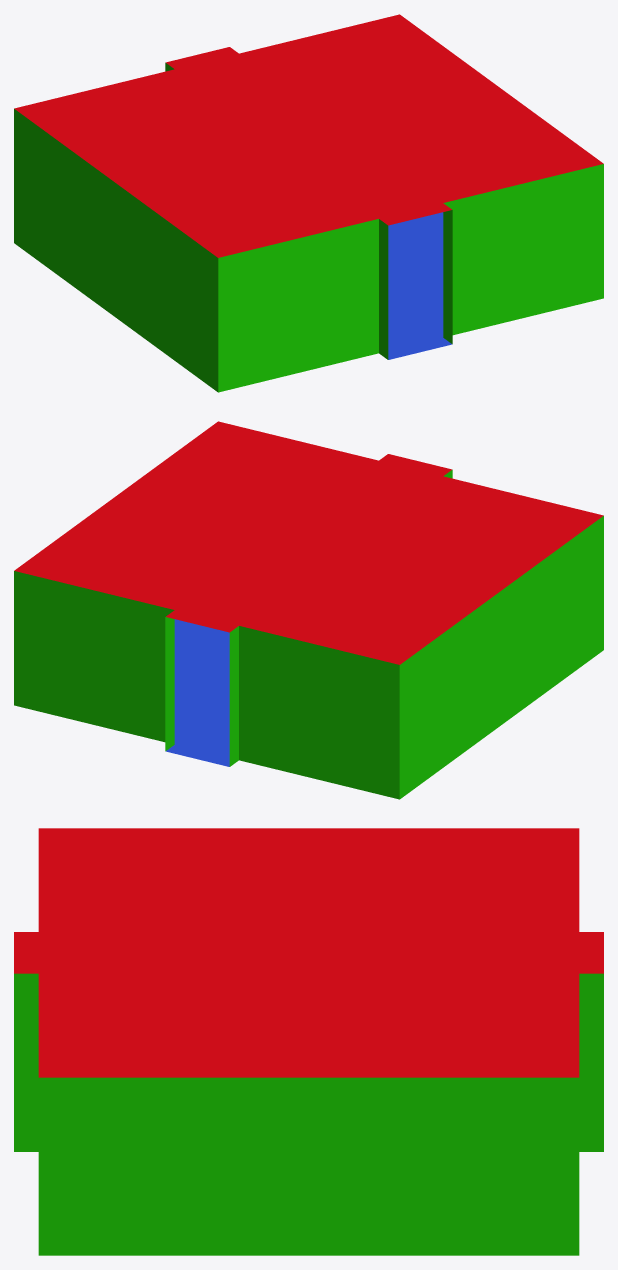
File: 3x3_Room.fbx
3 renders of one model, top to bottom at view 1: azimuth 30°, elevation 25°; view 2: azimuth 150°, elevation 25°; view 3: azimuth 270°, elevation 25°, orthographic. The views are drawn at different scales.
Parts seen in each view (by area): view 1: 3x3 Room; view 2: 3x3 Room; view 3: 3x3 Room.
Part boxes in pixels (left/top/right/bottom): 3x3 Room: left=14, top=14, right=603, bottom=392; 3x3 Room: left=14, top=421, right=603, bottom=799; 3x3 Room: left=14, top=828, right=603, bottom=1255.
Bounding box in the file's own units: 2400 × 800 × 2400.
